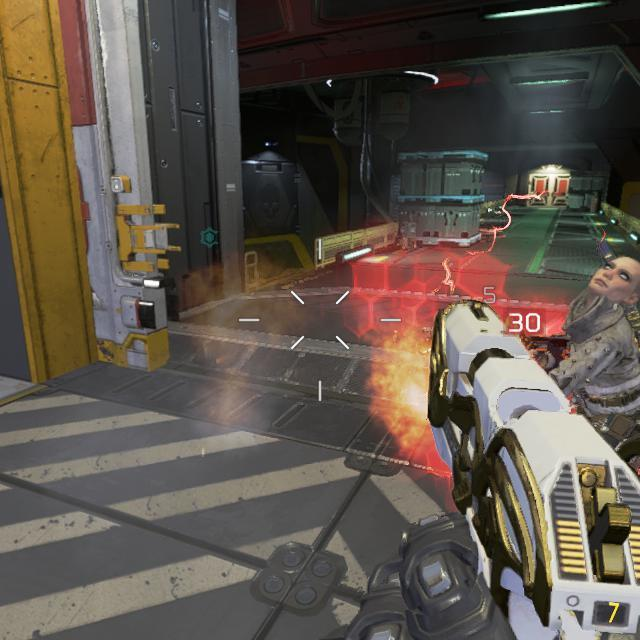avatar: (560, 256, 640, 414)
